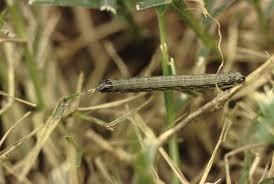fallarmy_worm: (90, 69, 247, 93)
